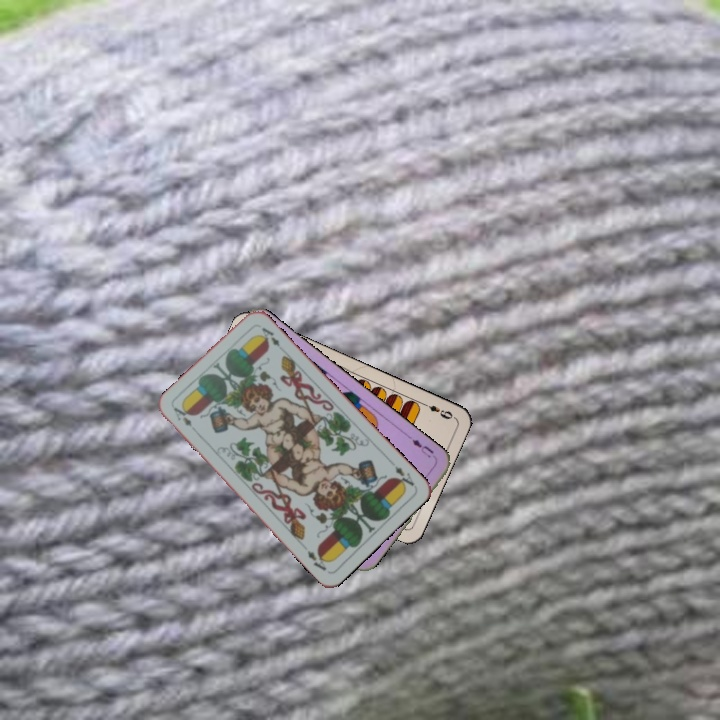E9: (419, 398, 455, 422)
EA: (391, 462, 417, 491), (169, 403, 195, 430)
EU: (405, 432, 439, 462)
